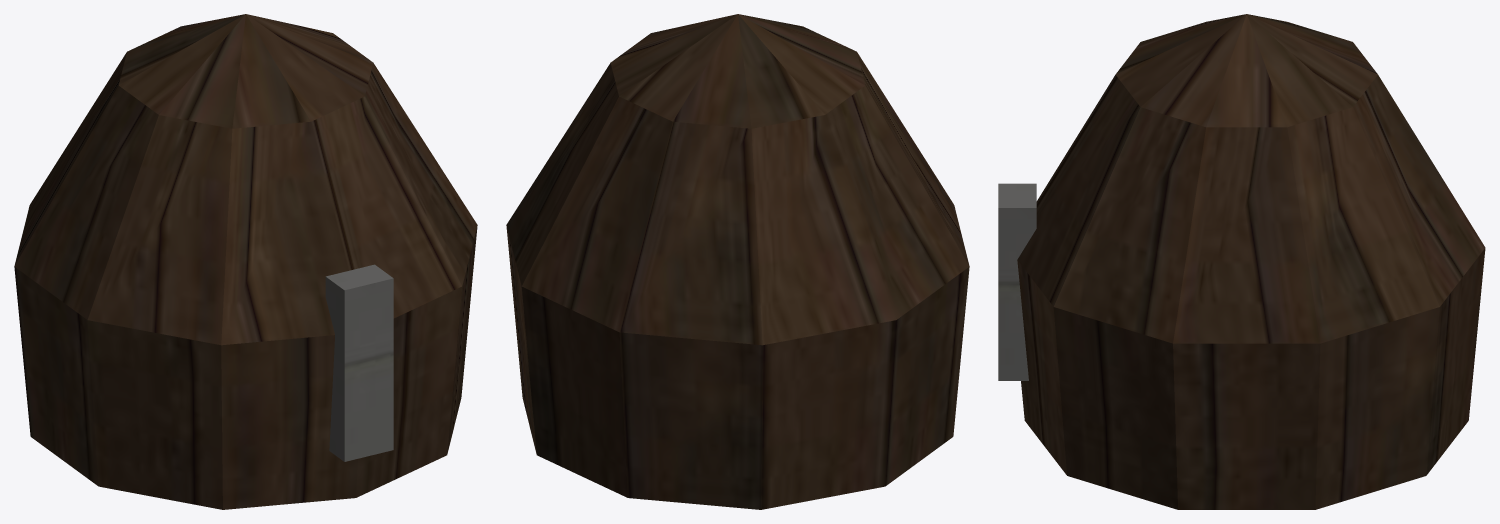
File: eq_past_1_head.glb
3 views of the same model, side by side, from view 1: azimuth 30°, elevation 25°; view 2: azimuth 150°, elevation 25°; view 3: azimuth 270°, elevation 25° (orthographic).
Visible parts, largest first — view 1: eq_past_1_head; view 2: eq_past_1_head; view 3: eq_past_1_head.
Part boxes in pixels (left/top/right/bottom): eq_past_1_head: left=14, top=14, right=477, bottom=509; eq_past_1_head: left=506, top=14, right=969, bottom=509; eq_past_1_head: left=998, top=14, right=1485, bottom=509.
Bounding box in the file's own units: 0.2378 × 0.235 × 0.255.
Materials: 2 (2 with a texture image).
